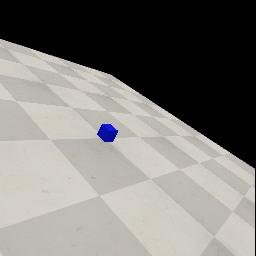box: (97, 124, 118, 142)
